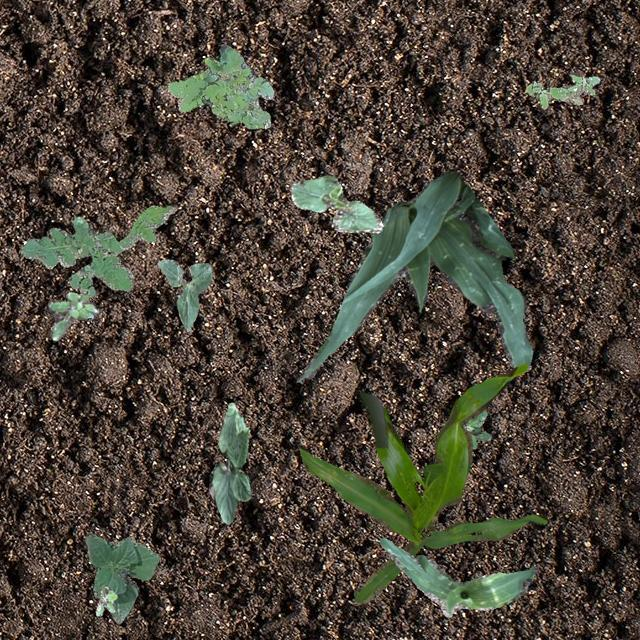crop: (298, 362, 546, 602), (296, 170, 532, 380), (378, 536, 538, 616), (84, 534, 160, 622), (289, 174, 382, 232), (208, 402, 250, 522), (156, 258, 212, 330)
weed: (18, 205, 174, 296), (168, 44, 272, 128), (524, 73, 598, 109), (48, 292, 96, 340), (462, 410, 491, 448), (94, 584, 116, 614)
